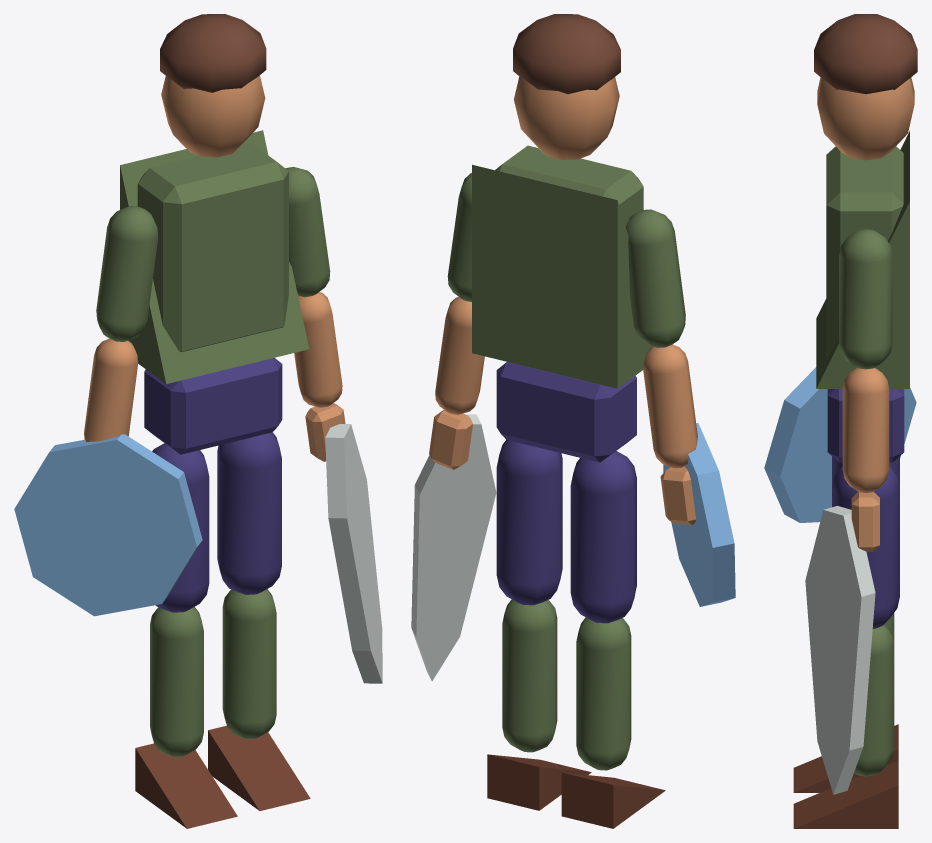
The model's file is adventurer.rustic.glb.
3 views of the same model, side by side, from view 1: azimuth 30°, elevation 25°; view 2: azimuth 150°, elevation 25°; view 3: azimuth 270°, elevation 25° (orthographic).
Parts seen in each view (by area): view 1: accessory.off-hand, torso, pelvis, thigh.right, accessory.main-hand, tunic, shin.right, shin.left, hair, upper-arm.left, head, foot.left (+6 smaller); view 2: tunic, accessory.main-hand, pelvis, thigh.left, thigh.right, shin.left, shin.right, hair, accessory.off-hand, upper-arm.left, head, forearm.left (+7 smaller); view 3: accessory.main-hand, accessory.off-hand, torso, upper-arm.right, hair, head, tunic, forearm.right, foot.right, thigh.right, shin.right, pelvis (+3 smaller).
Part boxes in pixels (x1,y1,x2,y2): accessory.off-hand: (14, 434, 202, 616); torso: (137, 143, 288, 352); pelvis: (144, 358, 282, 454); thigh.right: (217, 432, 281, 594); accessory.main-hand: (325, 424, 382, 683); tunic: (120, 130, 308, 383); shin.right: (222, 589, 276, 739); shin.left: (150, 606, 203, 757); hair: (160, 14, 266, 92); upper-arm.left: (96, 206, 158, 341); head: (161, 75, 265, 157); foot.left: (135, 743, 237, 828); tunic: (472, 164, 652, 388); accessory.main-hand: (411, 414, 496, 681); pelvis: (496, 362, 636, 462); thigh.left: (570, 451, 636, 623); thigh.right: (496, 440, 562, 605); shin.left: (576, 617, 631, 770); shin.right: (502, 599, 557, 752); hair: (513, 14, 620, 94); accessory.off-hand: (663, 423, 735, 606); upper-arm.left: (626, 209, 685, 347); head: (514, 76, 619, 159); forearm.left: (643, 344, 697, 468); accessory.main-hand: (805, 506, 875, 794); accessory.off-hand: (764, 367, 916, 522); torso: (826, 146, 903, 355); upper-arm.right: (839, 229, 892, 369); hair: (814, 14, 917, 94); head: (817, 77, 914, 160); tunic: (816, 131, 909, 388); forearm.right: (842, 367, 889, 492); foot.right: (793, 760, 898, 828); thigh.right: (832, 466, 899, 628); shin.right: (854, 625, 894, 776); pelvis: (827, 389, 904, 462).
Size of the model in its own units: 1.41 by 3.03 by 0.5413.
